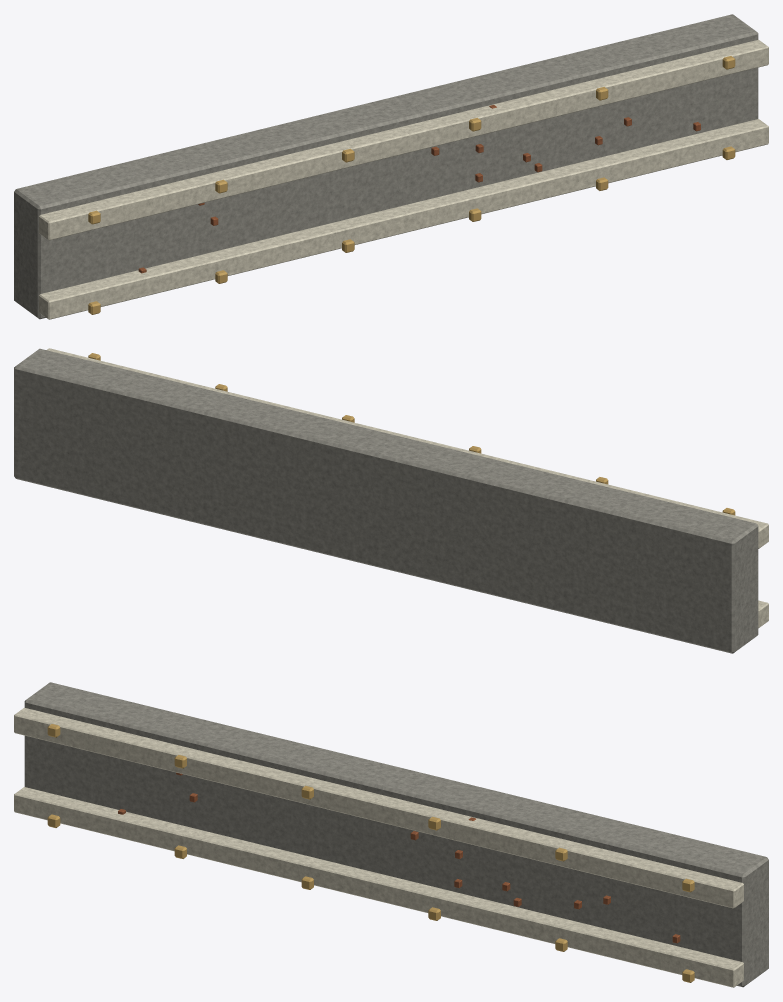
The model's file is TUNN1LIP_lod0.glb.
3 views of the same model, one above another, from view 1: azimuth 30°, elevation 25°; view 2: azimuth 150°, elevation 25°; view 3: azimuth 330°, elevation 25° (orthographic).
Visible parts, largest first — view 1: TUNN1LIP_LOD0; view 2: TUNN1LIP_LOD0; view 3: TUNN1LIP_LOD0.
Part boxes in pixels (x1=…): TUNN1LIP_LOD0: x1=14, y1=14, x2=768, y2=319; TUNN1LIP_LOD0: x1=14, y1=348, x2=768, y2=653; TUNN1LIP_LOD0: x1=14, y1=682, x2=768, y2=987.
Bounding box in the file's own units: 4 × 0.6 × 0.39.
Materials: 4 (3 with a texture image).
